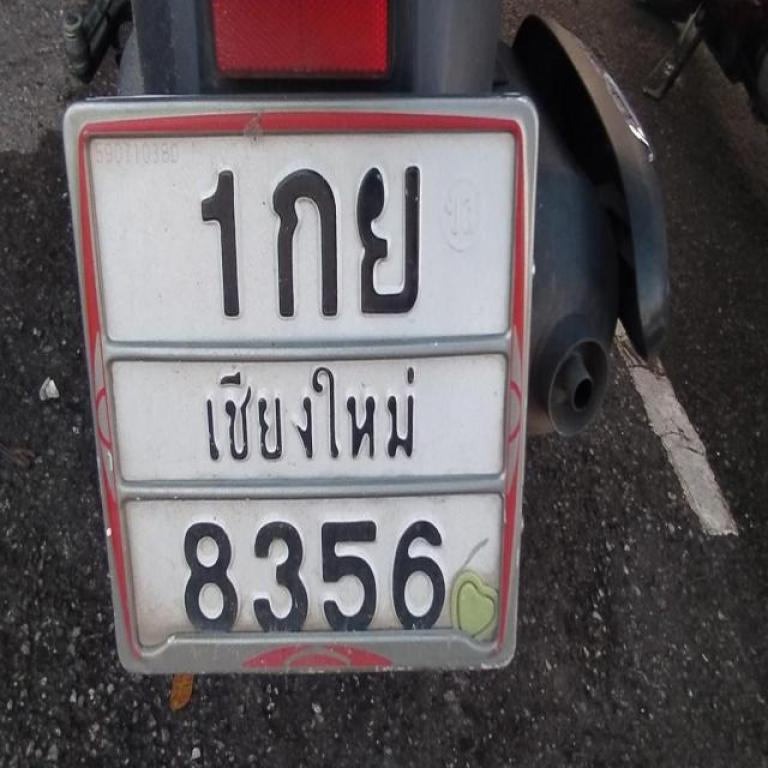license plate: (49, 82, 561, 675)
